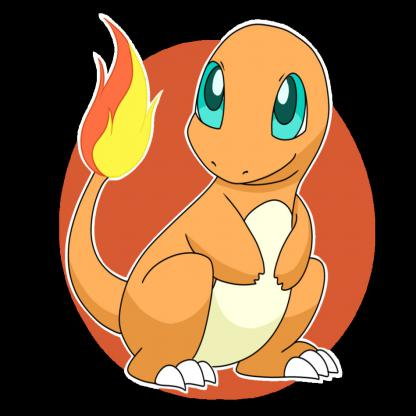Charmander: (48, 20, 399, 416)
